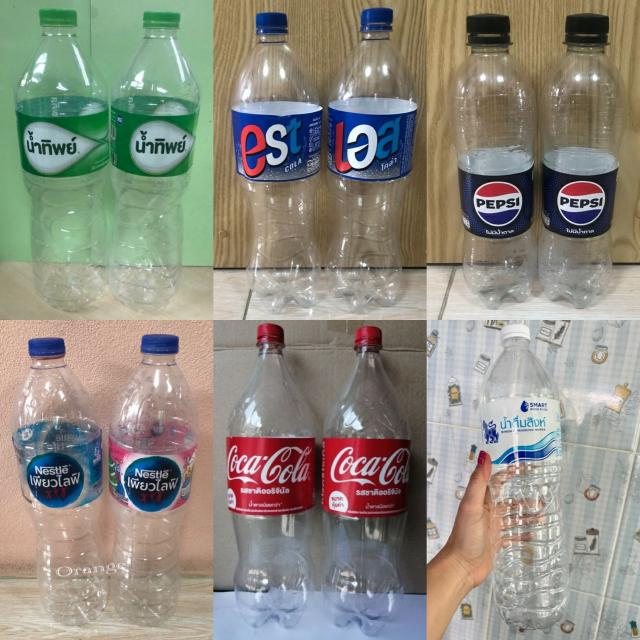plastik: (15, 9, 109, 310), (325, 9, 418, 312), (11, 338, 108, 625), (322, 327, 411, 634), (480, 324, 569, 629), (110, 11, 200, 311), (226, 324, 315, 627), (231, 13, 321, 312), (539, 14, 628, 308), (109, 334, 198, 625), (449, 14, 536, 308)
